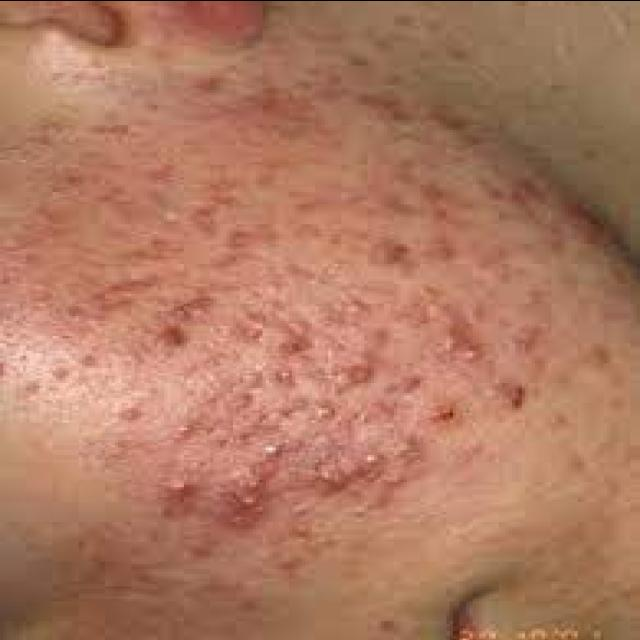Acne: (63, 271, 161, 322), (211, 473, 271, 530), (352, 87, 418, 124), (434, 325, 488, 366), (479, 375, 531, 412), (360, 235, 412, 271), (308, 464, 352, 506), (228, 304, 272, 344), (163, 292, 220, 322), (158, 476, 198, 518), (274, 316, 312, 359), (328, 361, 376, 394), (420, 234, 462, 268), (180, 205, 222, 239), (421, 398, 465, 430), (152, 321, 190, 351), (352, 443, 390, 469), (227, 226, 255, 253), (258, 436, 288, 461), (310, 400, 340, 424), (116, 405, 144, 425)
